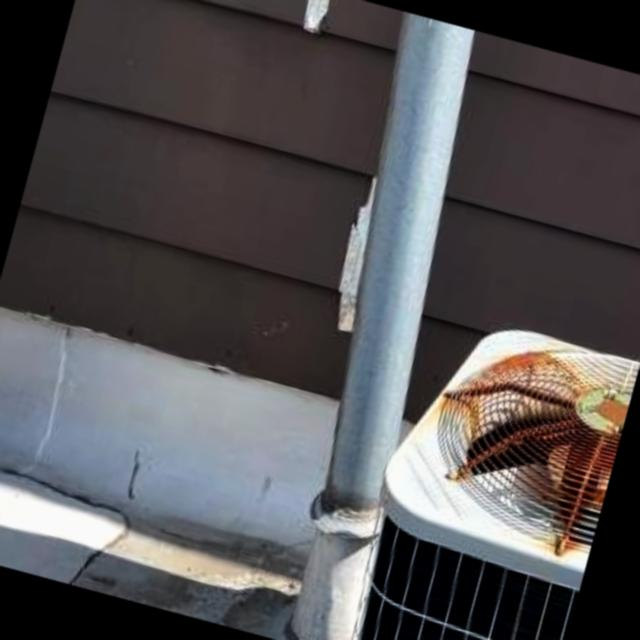SPLIT-SYSTEM: (337, 297, 640, 640)
